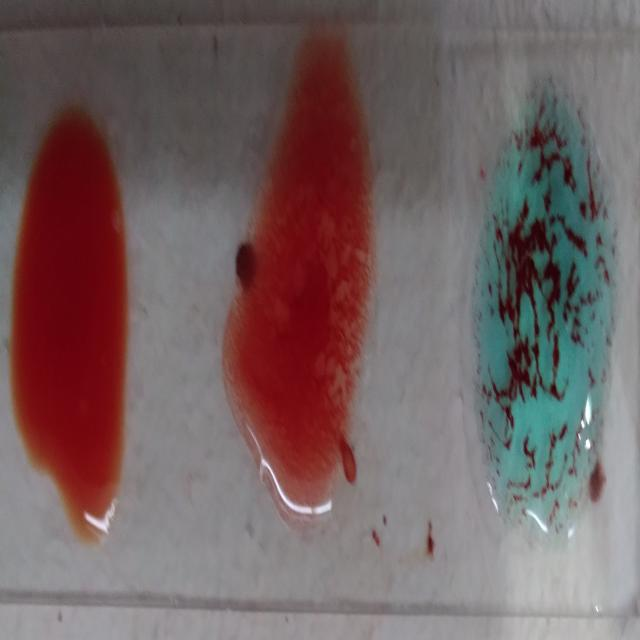A: (484, 83, 617, 569)
D: (233, 39, 372, 538)
